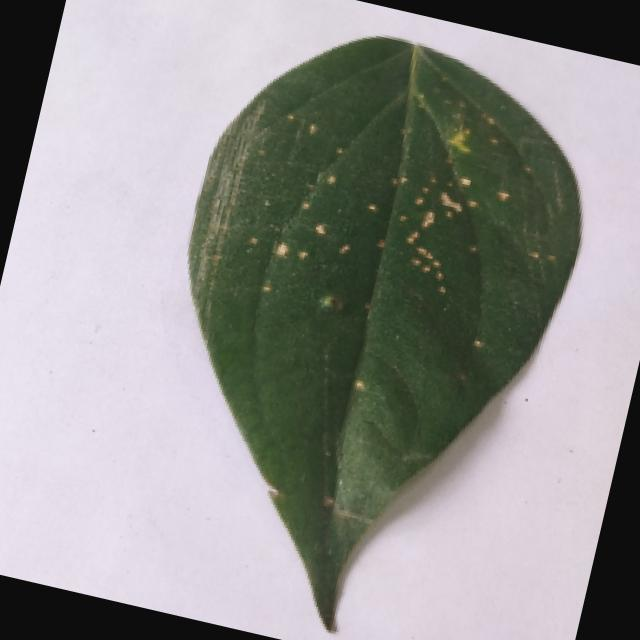pollu-disease: (109, 9, 630, 640)
